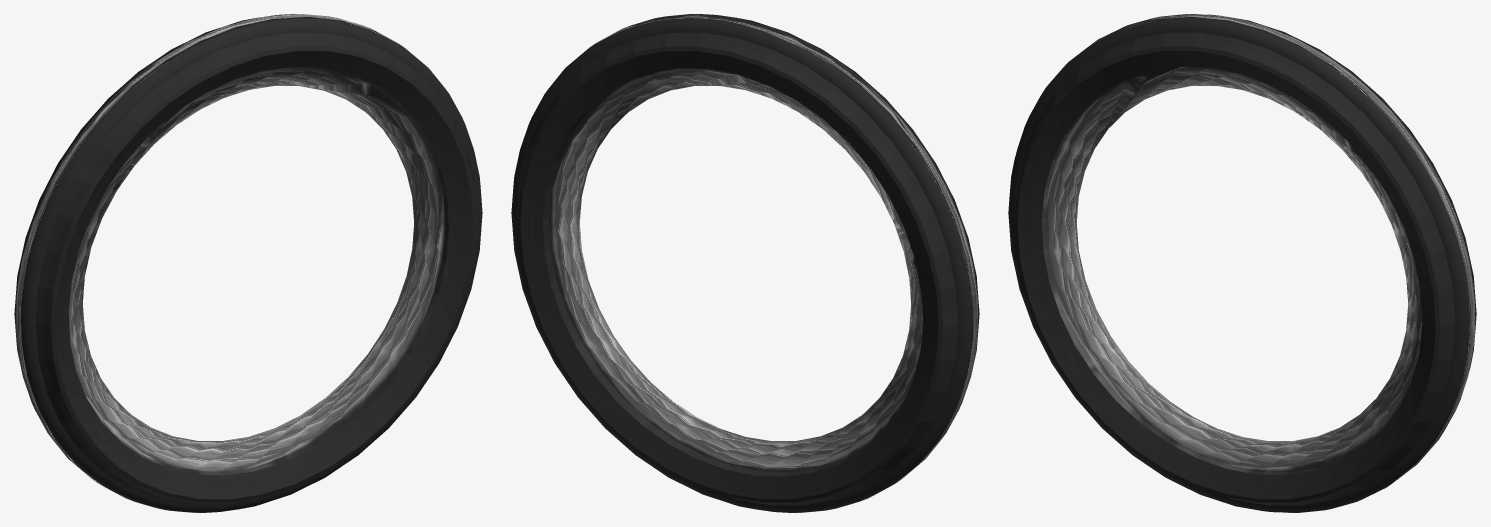
The model's file is vehicle.obj.
3 views of the same model, side by side, from view 1: azimuth 30°, elevation 25°; view 2: azimuth 150°, elevation 25°; view 3: azimuth 330°, elevation 25° (orthographic).
Visible parts, largest first — view 1: pCylinder3 group1; view 2: pCylinder3 group1; view 3: pCylinder3 group1.
Boxes of the visible parts, left/top/right/bottom form: pCylinder3 group1: left=14, top=14, right=482, bottom=512; pCylinder3 group1: left=511, top=14, right=979, bottom=512; pCylinder3 group1: left=1008, top=14, right=1476, bottom=512.
Bounding box in the file's own units: 4.64 × 4.64 × 0.5529.
